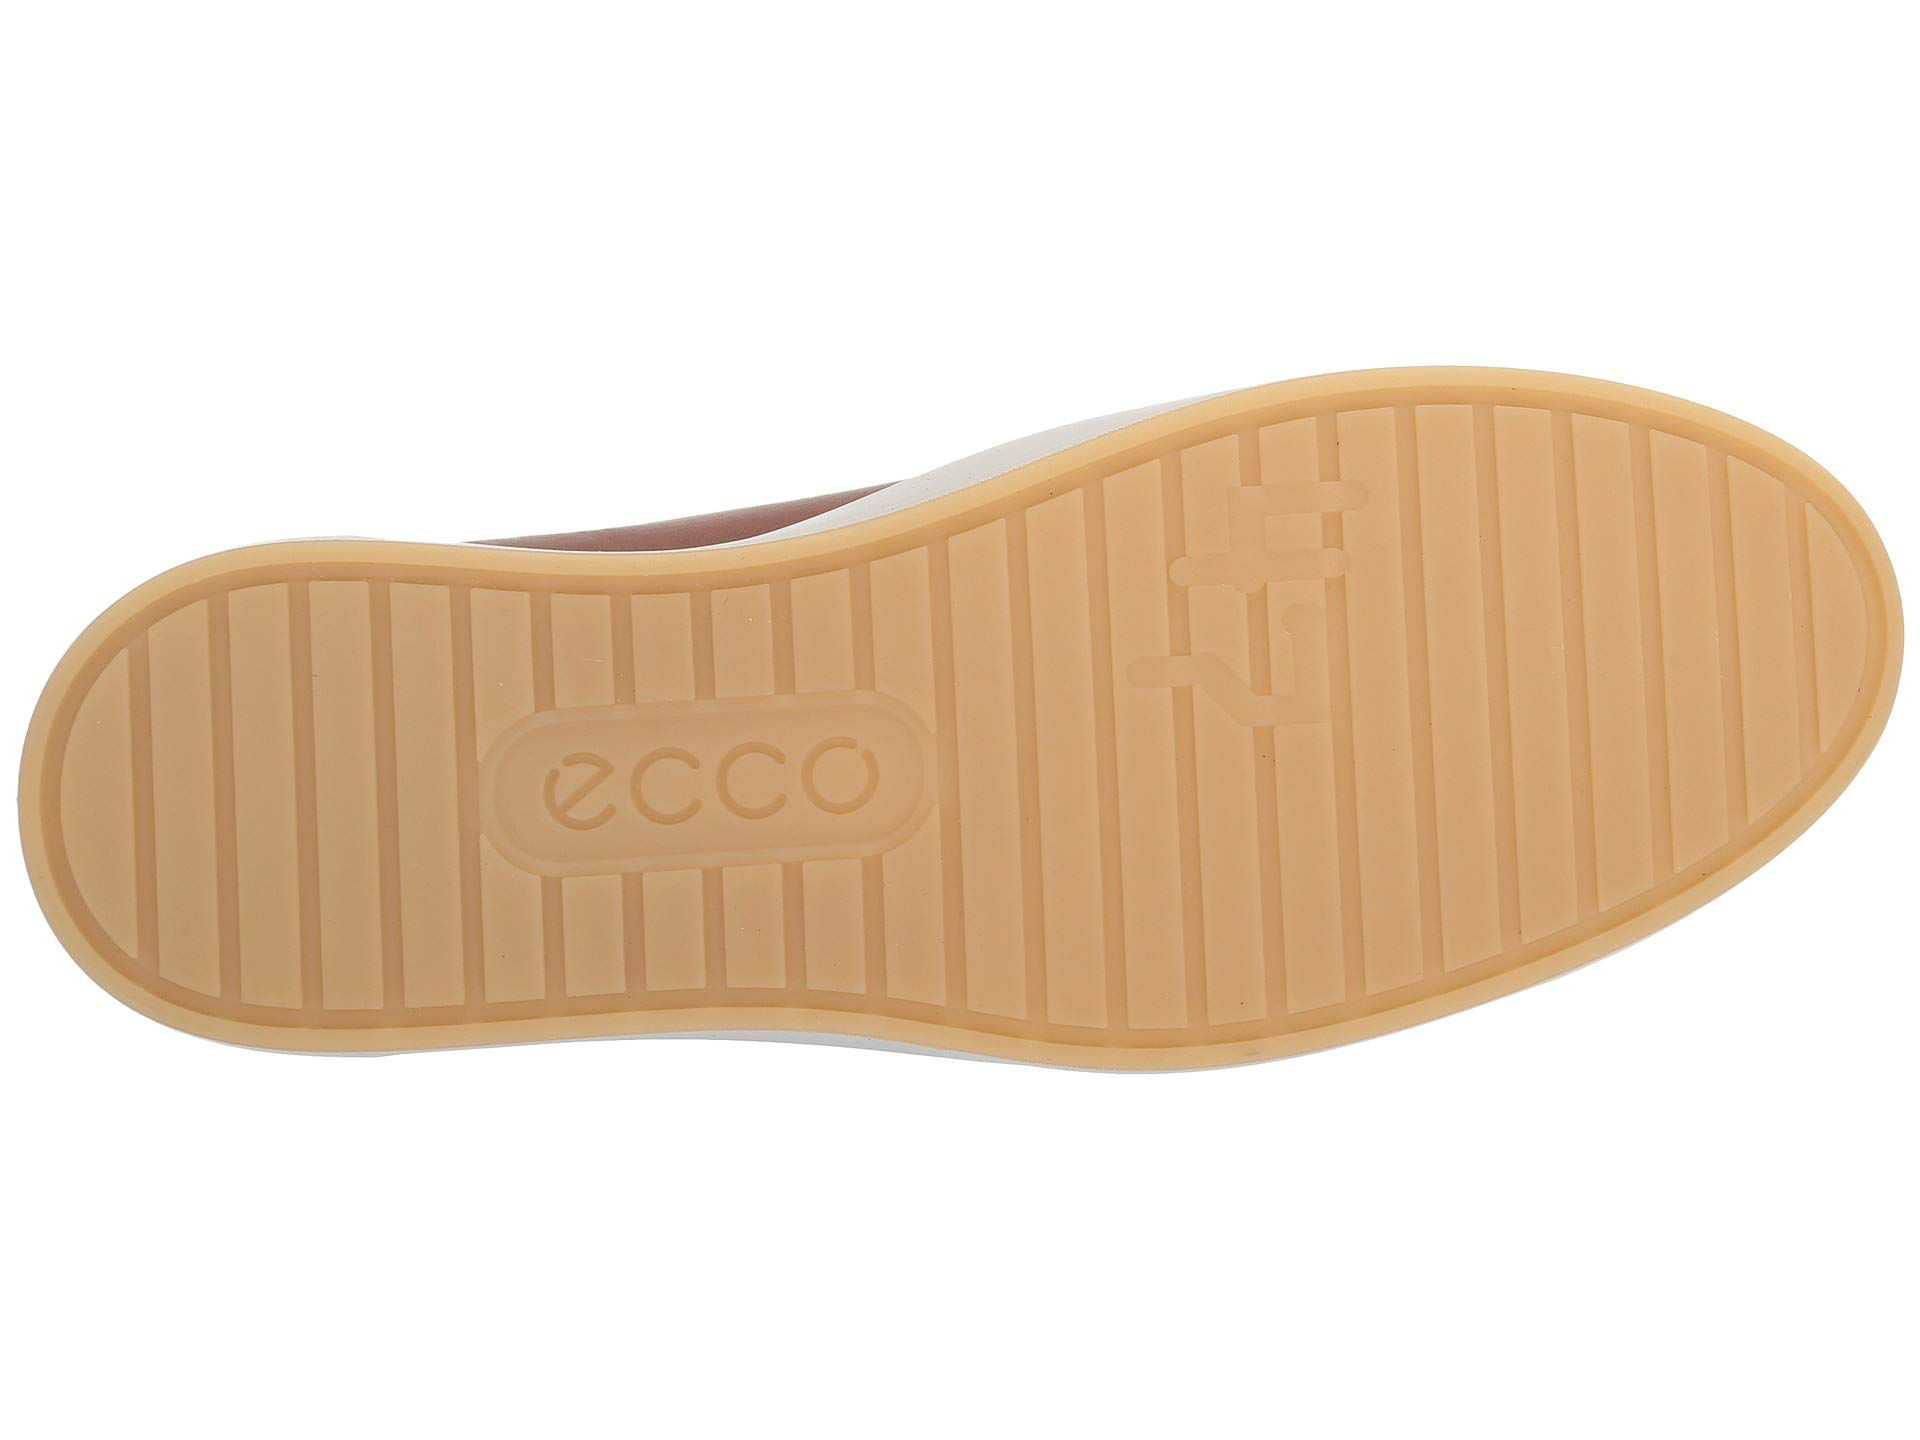circle: (376, 555, 949, 1038)
quad: (1079, 427, 1596, 988), (376, 555, 949, 1038)
text: (1079, 427, 1596, 988), (376, 555, 949, 1038)
